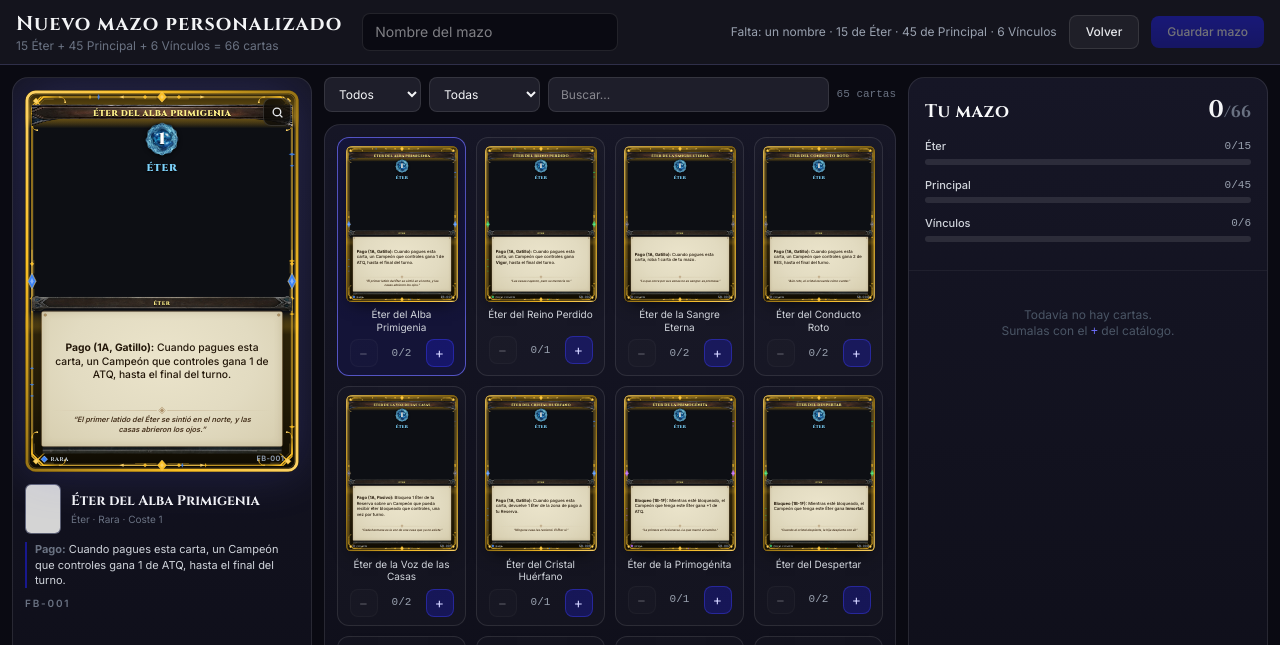
MazoEditor — guía del mazo (qué falta, inspector, lista agrupada) › dice qué falta para poder guardar y se actualiza al avanzar
The image size is (1280, 645).
Check: the text "Falta: un nombre · 15 de Éter · 45 de Principal · 6 Vínculos" is shown, box x1=731 y1=24 x2=1057 y2=40
In the field with placeholder "Nombre del mazo": {"x": 490, "y": 32} x1=362 y1=13 x2=618 y2=51, type "Parcial"
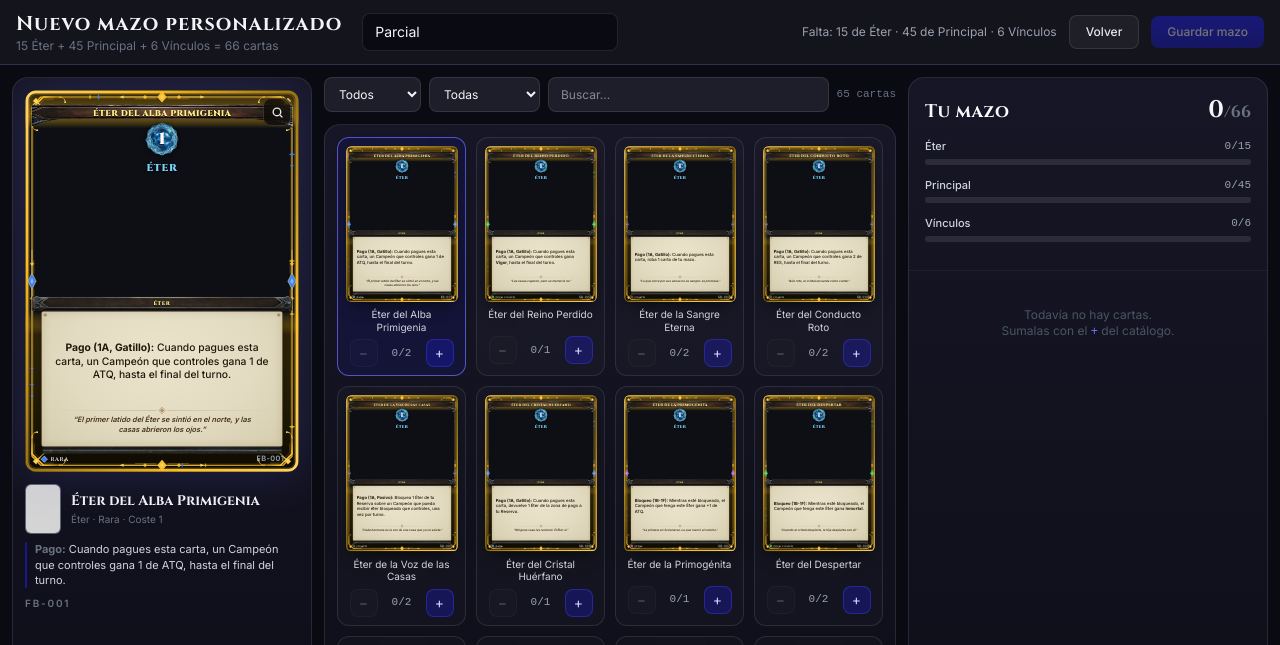
Check: the text "Falta: 15 de Éter · 45 de Principal · 6 Vínculos" is shown, box x1=802 y1=24 x2=1057 y2=40
